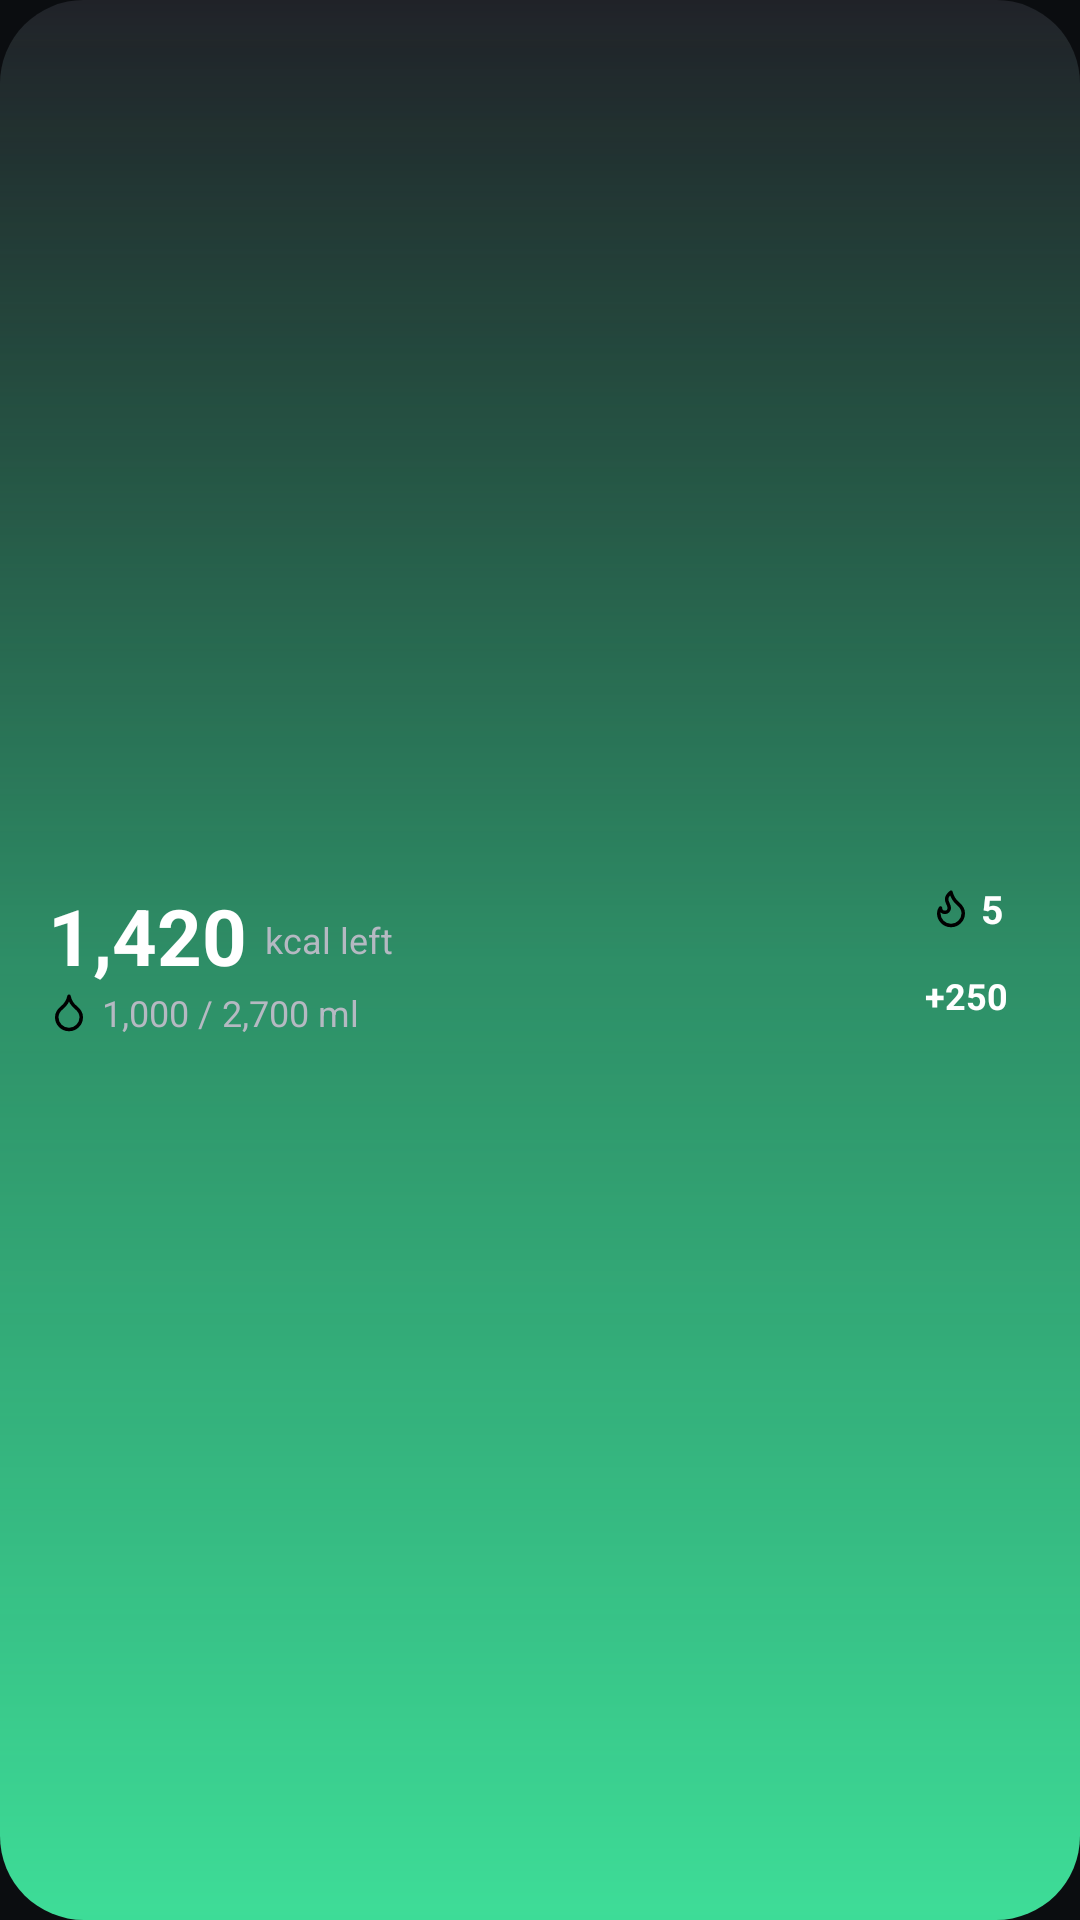

Point at icon controls on the screen. Image size 1080 x 1920, points as (x=x, y=y).
widget drop: (x=69, y=1013)
widget flame: (x=951, y=909)
